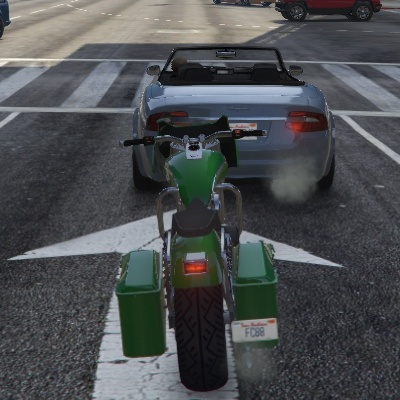on: (181, 252, 211, 276)
